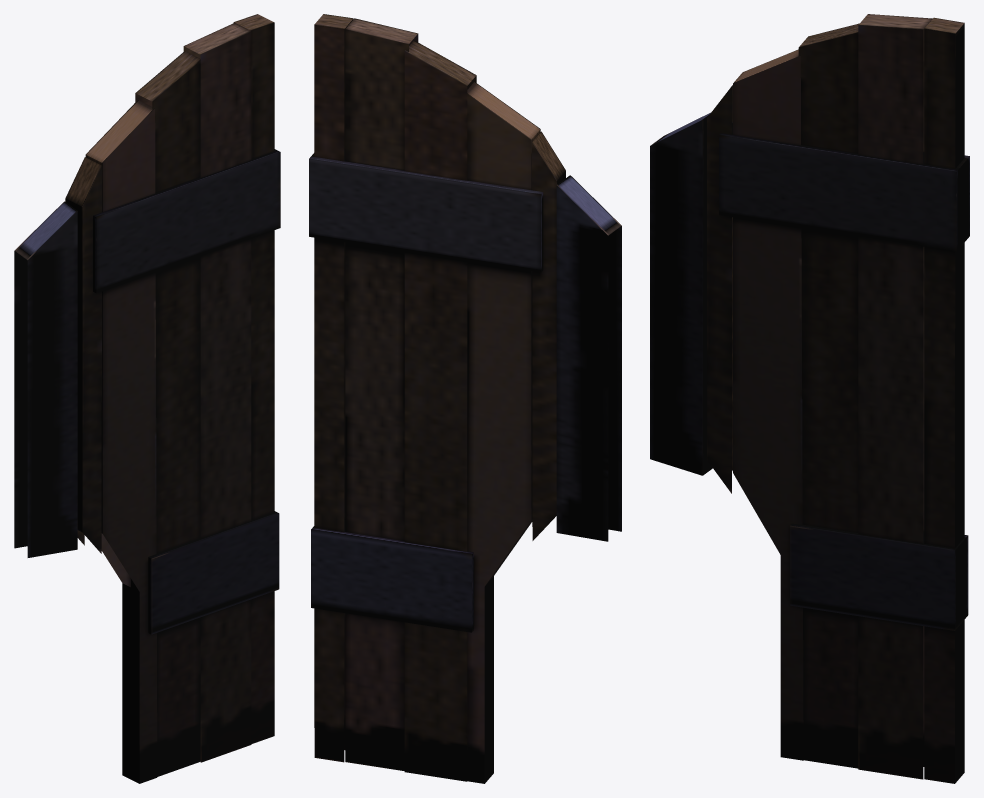
The model's file is DoorSide2F1.obj.
The picture shows the model from 3 angles, left to right: view 1: azimuth 30°, elevation 25°; view 2: azimuth 150°, elevation 25°; view 3: azimuth 330°, elevation 25°; orthographic projection. The views are drawn at different scales.
Visible parts, largest first — view 1: DoorSide2F1_Cube.002; view 2: DoorSide2F1_Cube.002; view 3: DoorSide2F1_Cube.002.
Boxes of the visible parts, x1,y1,x2,y2 form: DoorSide2F1_Cube.002: (14,14,280,783); DoorSide2F1_Cube.002: (309,14,621,783); DoorSide2F1_Cube.002: (650,14,969,783).
Bounding box in the file's own units: 107 × 268 × 26.68.
Materials: 1 (1 with a texture image).
